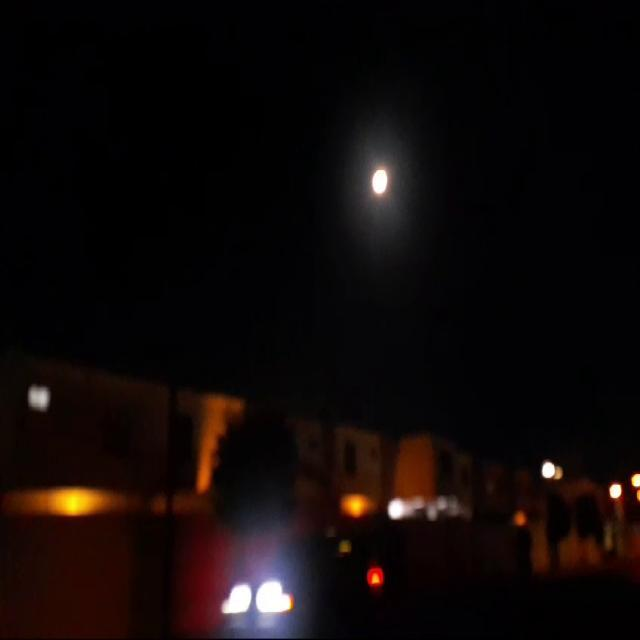moon: (354, 165, 374, 199)
